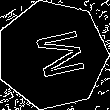M_W: (22, 27, 83, 83)
